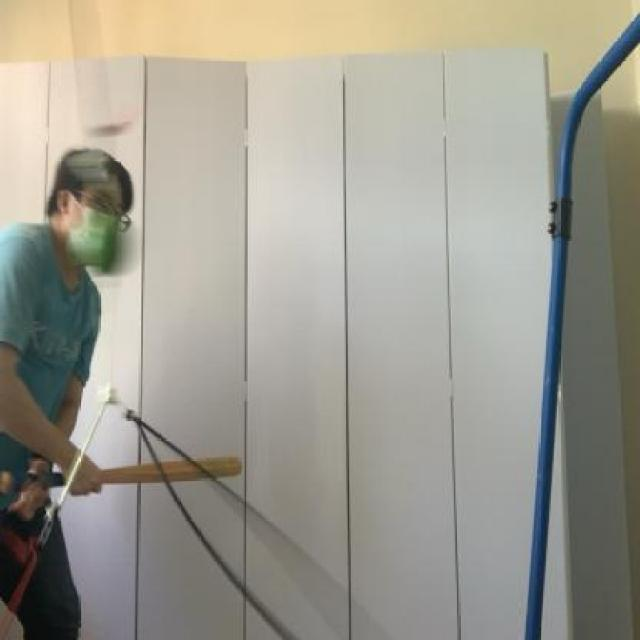baseball: (63, 167, 146, 282)
